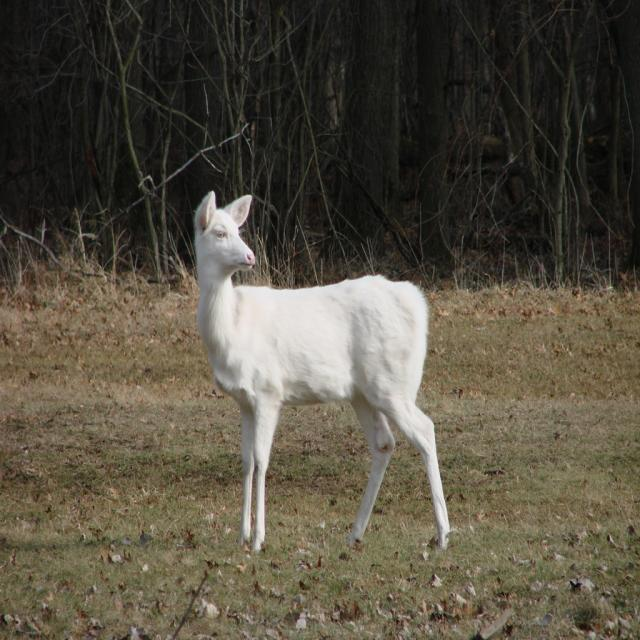Goat: (192, 189, 451, 556)
